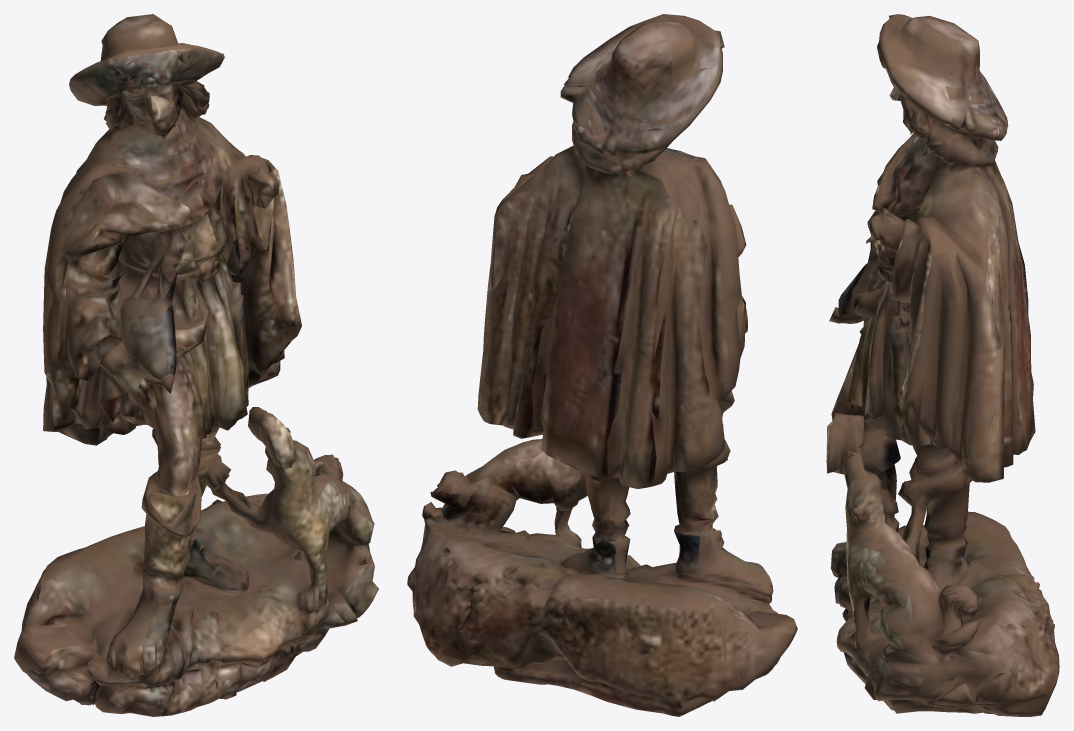
File: roch-21398.glb
3 views of the same model, side by side, from view 1: azimuth 30°, elevation 25°; view 2: azimuth 150°, elevation 25°; view 3: azimuth 270°, elevation 25° (orthographic). The views are drawn at different scales.
Parts seen in each view (by area): view 1: Mesh; view 2: Mesh; view 3: Mesh.
Boxes of the visible parts, x1,y1,x2,y2 form: Mesh: (14, 14, 378, 716); Mesh: (407, 14, 797, 716); Mesh: (826, 14, 1059, 716).
Size of the model in its own units: 0.5806 by 1.05 by 0.3514.
Materials: 1 (1 with a texture image).
